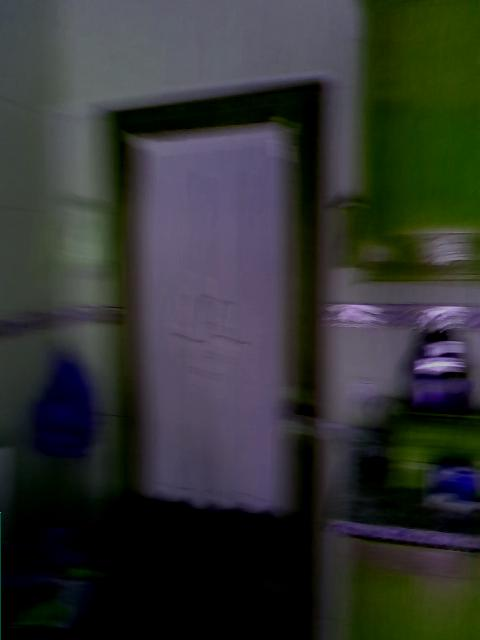closed_door: (113, 79, 321, 639)
